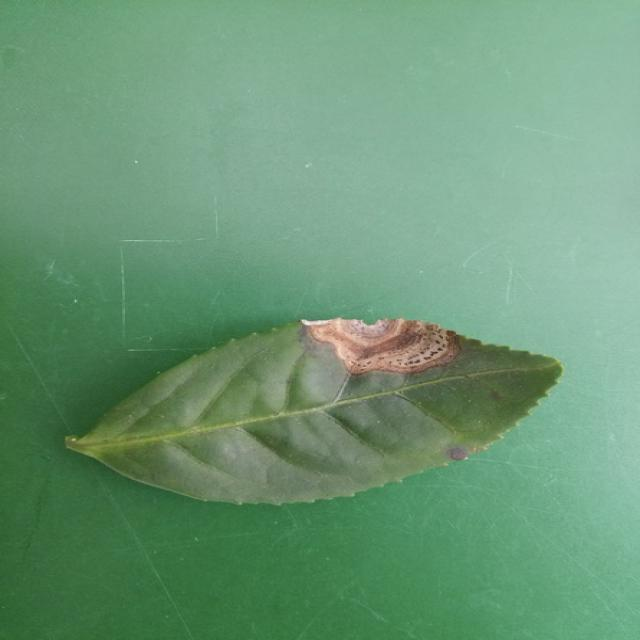Tea cloud leaf blight: (298, 309, 470, 381)
